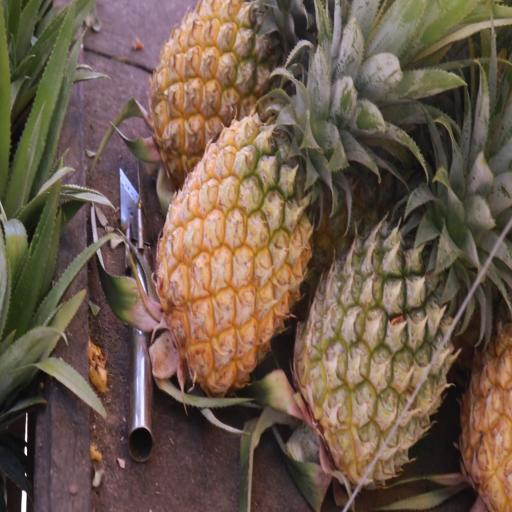Pineapple - v8 v1: (146, 88, 317, 402), (147, 5, 302, 180)
